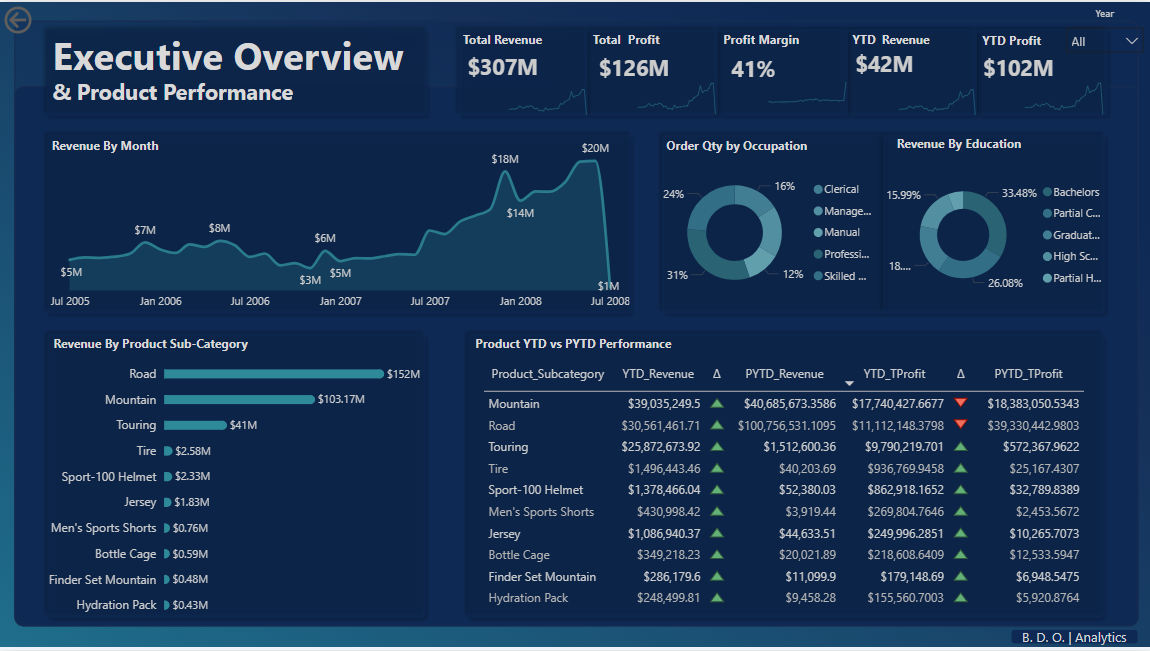

The dashboard page shown, as its layout file describes it:
{"tool":"powerbi","page":{"name":"Dark Themed Executive Overview and Product Performance","canvas":[1280,720],"ordinal":0},"visuals":[{"type":"card","fields":{"Values":["_Measure.Revenue"]},"box":[484.6,23.1,146.2,98.5],"z":0},{"type":"card","fields":{"Values":["_Measure.Total_Profit"]},"box":[563.8,16.2,281.2,115],"z":1000},{"type":"actionButton","box":[0,0,100,40],"z":3000},{"type":"card","fields":{"Values":["_Measure.YTD_Revenue"]},"box":[1031.2,1.2,198.8,145],"z":4000},{"type":"card","fields":{"Values":["_Measure.YTD_TProfit"]},"box":[883.8,1.2,197.5,135],"z":5000},{"type":"areaChart","title":"Total Revenue ","fields":{"Category":["Dim_Date.Date.Variation.Date Hierarchy.Year","Dim_Date.Date.Variation.Date Hierarchy.Quarter","Dim_Date.Date.Variation.Date Hierarchy.Month"],"Y":["_Measure.total Revenue"]},"box":[50,126.4,654.5,223.6],"z":6000},{"type":"donutChart","title":"Revenue by Gender","fields":{"Y":["_Measure.total Revenue"],"Category":["DimCustomer.Education"]},"box":[976.7,121.7,263.3,273.3],"z":8000},{"type":"donutChart","title":"Revenue by Marital Status","fields":{"Y":["_Measure.Total Order"],"Series":["DimCustomer.Occupation"]},"box":[723.3,151.7,260,208.3],"z":9000},{"type":"tableEx","fields":{"Values":["DimProduct.Product_Subcategory","_Measure.YTD_Revenue","_Measure.Revenue YTD Δ","_Measure.PYTD_Revenue","_Measure.YTD_TProfit","_Measure.Profit YTD Δ","_Measure.PYTD_TProfit"]},"box":[531.7,395,710,325],"z":10000},{"type":"slicer","title":"Year","fields":{"Values":["Dim_Date.Date.Variation.Date Hierarchy.Year"]},"box":[1175,6.7,105,53.3],"z":11000},{"type":"clusteredBarChart","fields":{"Y":["_Measure.Total Revenue"],"Category":["DimProduct.Product_Subcategory","DimProduct.ProductName"]},"box":[39,381,437,312],"z":12000},{"type":"areaChart","title":"Total Revenue ","fields":{"Category":["Dim_Date.Date.Variation.Date Hierarchy.Year","Dim_Date.Date.Variation.Date Hierarchy.Quarter","Dim_Date.Date.Variation.Date Hierarchy.Month"],"Y":["_Measure.total Revenue"]},"box":[550,67.5,116.2,63.8],"z":13000},{"type":"areaChart","title":"Total Revenue ","fields":{"Category":["Dim_Date.Date.Variation.Date Hierarchy.Year","Dim_Date.Date.Variation.Date Hierarchy.Quarter","Dim_Date.Date.Variation.Date Hierarchy.Month"],"Y":["_Measure.Total_Profit"]},"box":[693.8,68.8,116.2,63],"z":14000},{"type":"areaChart","title":"Total Revenue ","fields":{"Category":["Dim_Date.Date.Variation.Date Hierarchy.Year","Dim_Date.Date.Variation.Date Hierarchy.Quarter","Dim_Date.Date.Variation.Date Hierarchy.Month"],"Y":["_Measure.Profit Margin %"]},"box":[837.5,68.8,116.2,63],"z":15000},{"type":"areaChart","title":"Total Revenue ","fields":{"Category":["Dim_Date.Date.Variation.Date Hierarchy.Year","Dim_Date.Date.Variation.Date Hierarchy.Quarter","Dim_Date.Date.Variation.Date Hierarchy.Month"],"Y":["_Measure.YTD_Revenue"]},"box":[982.5,68.8,115,63.8],"z":16000},{"type":"areaChart","title":"Total Revenue ","fields":{"Category":["Dim_Date.Date.Variation.Date Hierarchy.Year","Dim_Date.Date.Variation.Date Hierarchy.Quarter","Dim_Date.Date.Variation.Date Hierarchy.Month"],"Y":["_Measure.YTD_TProfit"]},"box":[1123.3,68.3,116.7,63.3],"z":17000},{"type":"card","fields":{"Values":["_Measure.Profit Margin %"]},"box":[798.8,32.5,76.2,82.5],"z":18000}]}

Visuals, with their boxes in screenshot pixels (x1, y1, x2, y2), scaled from the page's 1280x720 canvas onto the 1150x651 screenshot:
card - _Measure.Revenue: region(435, 21, 567, 110)
card - _Measure.Total_Profit: region(507, 15, 759, 119)
actionButton: region(0, 0, 90, 36)
card - _Measure.YTD_Revenue: region(926, 1, 1105, 132)
card - _Measure.YTD_TProfit: region(794, 1, 971, 123)
"Total Revenue " areaChart: region(45, 114, 633, 316)
"Revenue by Gender" donutChart: region(878, 110, 1114, 357)
"Revenue by Marital Status" donutChart: region(650, 137, 883, 326)
tableEx - DimProduct.Product_Subcategory x _Measure.YTD_Revenue: region(478, 357, 1116, 650)
"Year" slicer: region(1056, 6, 1149, 54)
clusteredBarChart - _Measure.Total Revenue x DimProduct.Product_Subcategory: region(35, 344, 428, 627)
"Total Revenue " areaChart: region(494, 61, 599, 119)
"Total Revenue " areaChart: region(623, 62, 728, 119)
"Total Revenue " areaChart: region(752, 62, 857, 119)
"Total Revenue " areaChart: region(883, 62, 986, 120)
"Total Revenue " areaChart: region(1009, 62, 1114, 119)
card - _Measure.Profit Margin %: region(718, 29, 786, 104)
